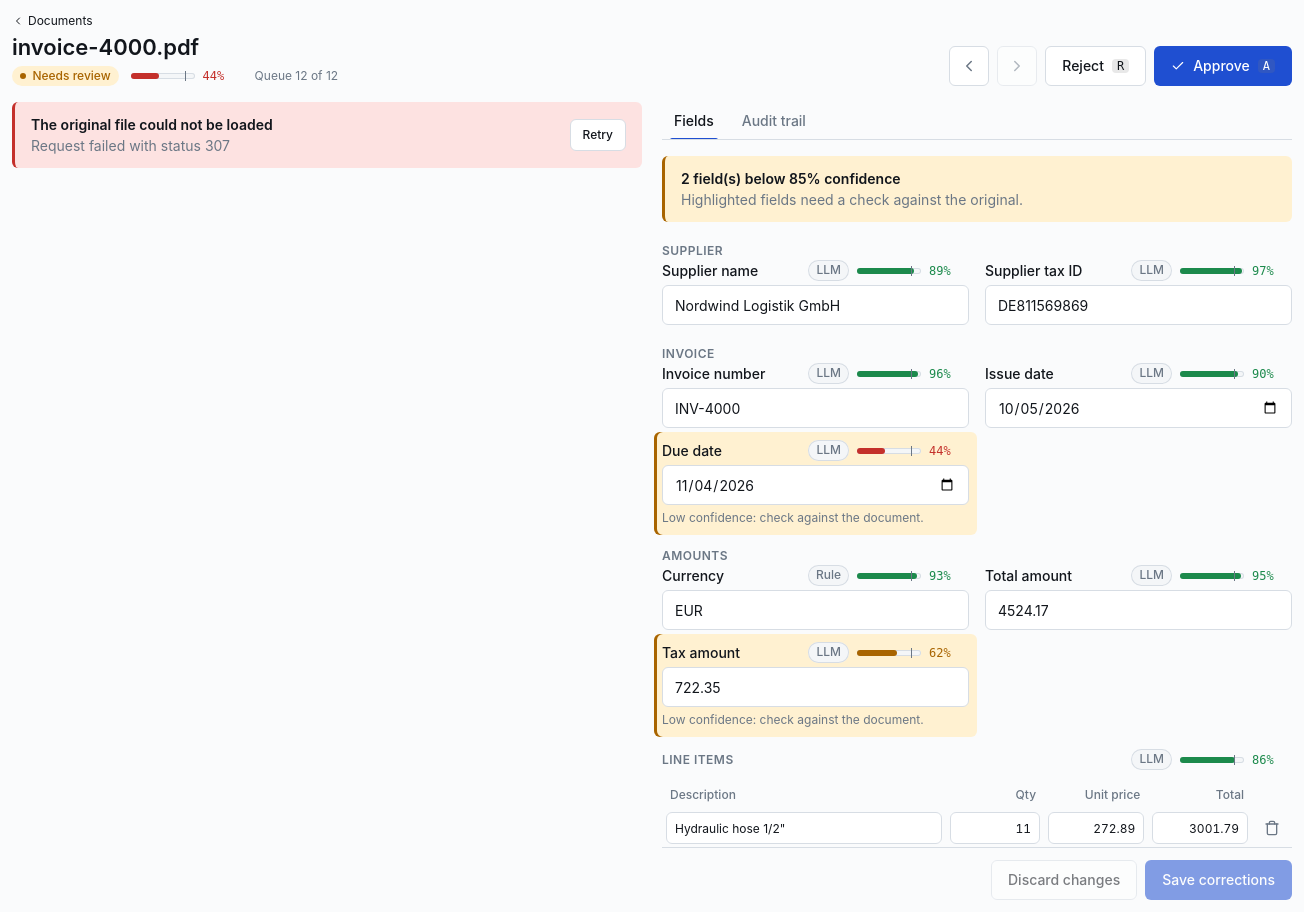
Test: Review workbench › saves a corrected field as a human-sourced value
Replace the text in the field labelled "Supplier name" with "Acme Componentes Ltda" at (816, 305), box top-left (662, 285), bottom-right (969, 325)
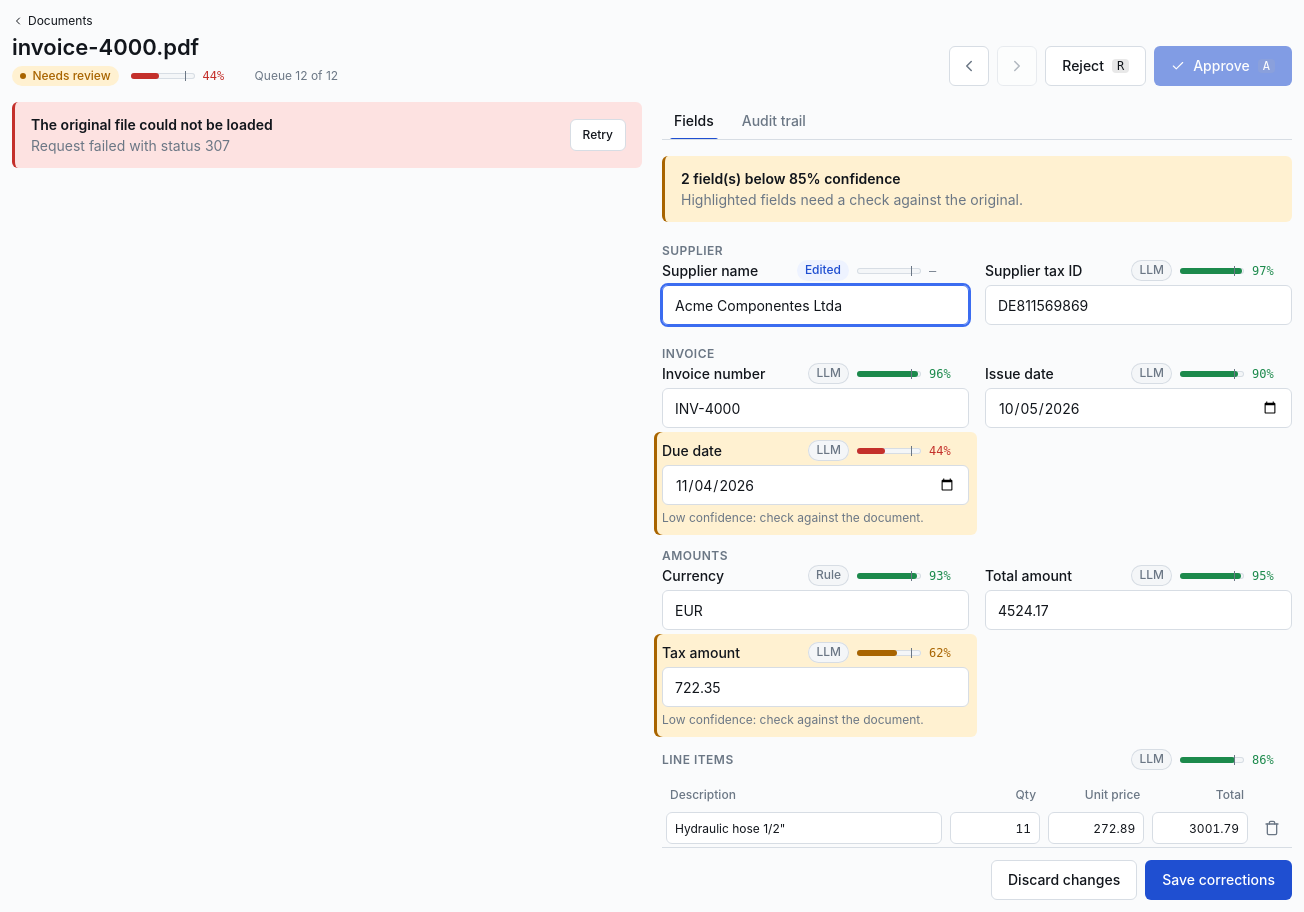
expect the button "Approve a" is disabled: met, box top-left (1154, 46), bottom-right (1292, 86)
Click the button "Save corrections" at (1219, 880), box top-left (1145, 860), bottom-right (1292, 900)
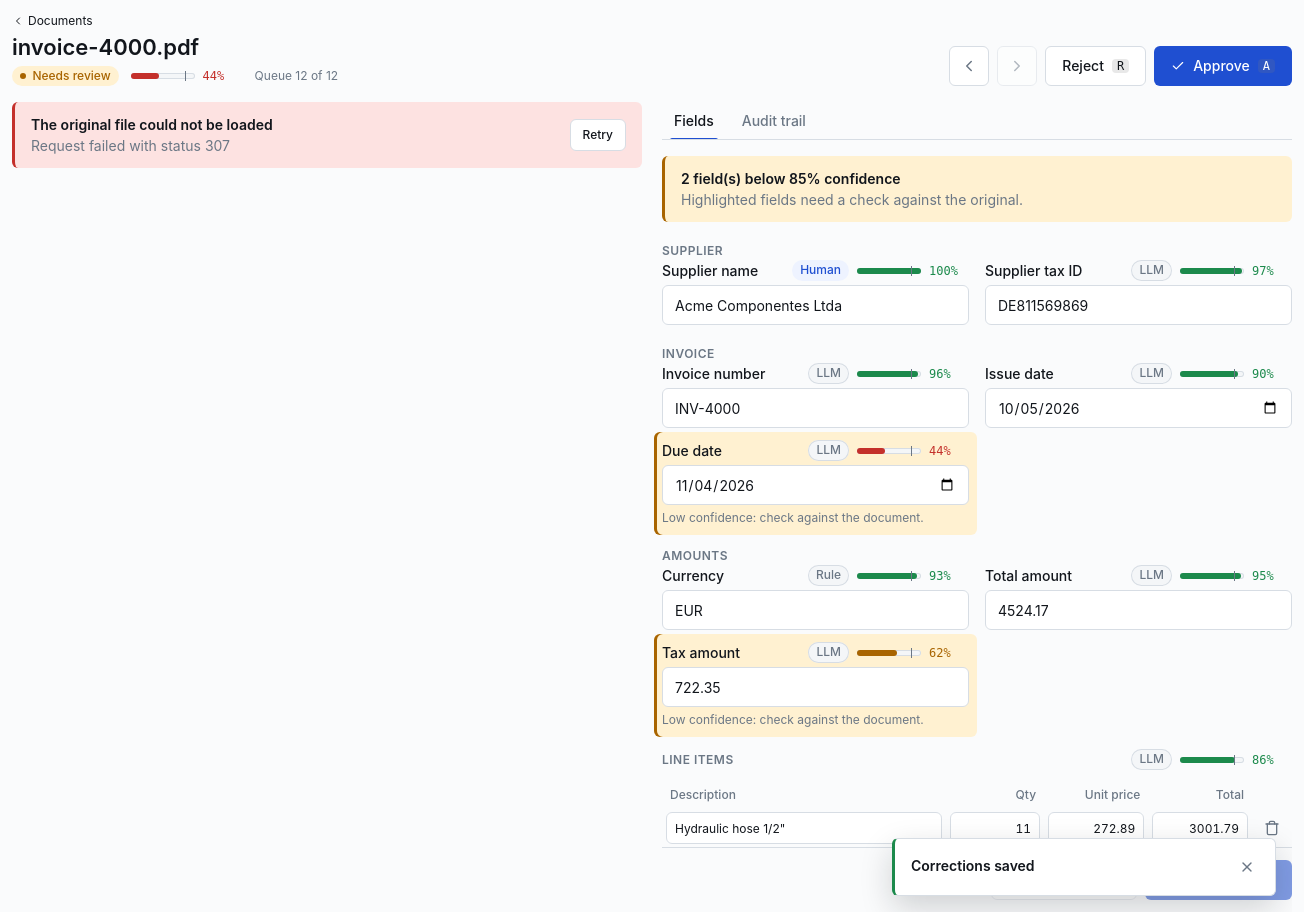
expect the text "Corrections saved" is shown: met, box top-left (911, 857), bottom-right (1035, 874)
expect the button "Approve a" is enabled: met, box top-left (1154, 46), bottom-right (1292, 86)
